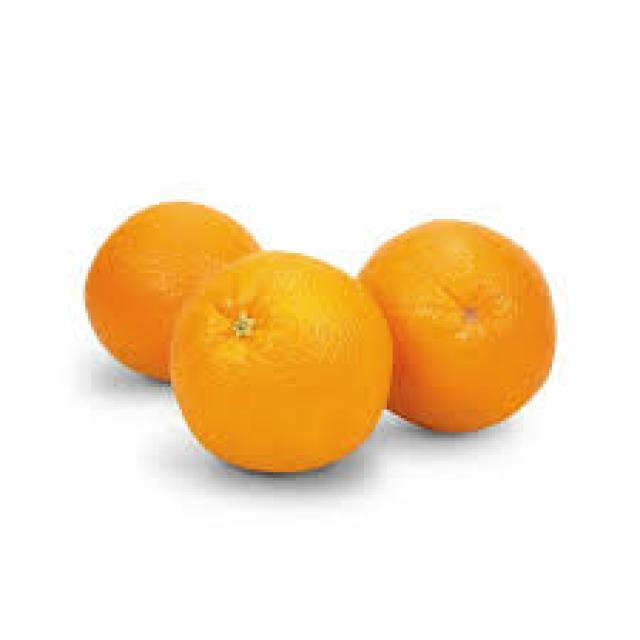Orange: (176, 255, 389, 484), (370, 214, 556, 436), (79, 198, 262, 381)
